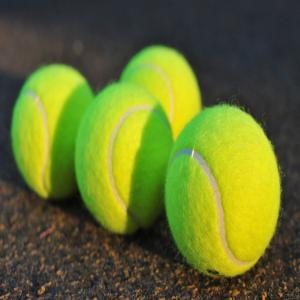TennisBall: (166, 101, 285, 277), (77, 81, 175, 234), (12, 64, 95, 201), (120, 47, 205, 136)
